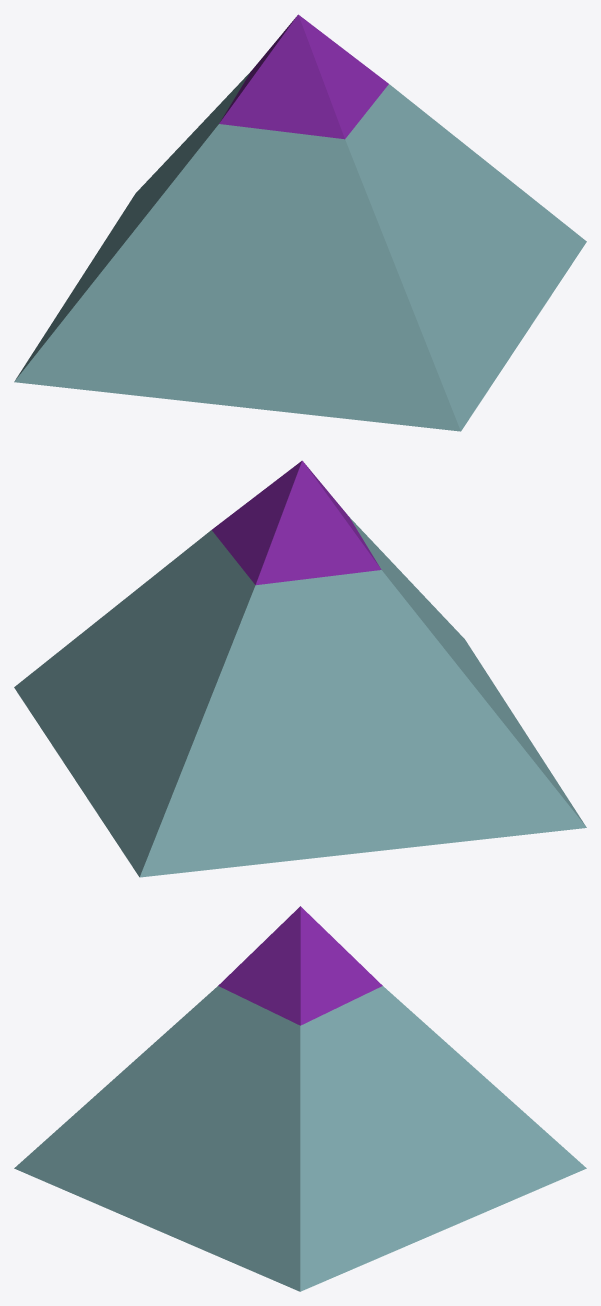
File: BB_top.fbx
The picture shows the model from 3 angles, top to bottom: view 1: azimuth 30°, elevation 25°; view 2: azimuth 150°, elevation 25°; view 3: azimuth 270°, elevation 25°; orthographic projection. The views are drawn at different scales.
Visible parts, largest first — view 1: BB_top; view 2: BB_top; view 3: BB_top.
Part boxes in pixels (x1,y1,x2,y2): BB_top: (14, 14, 586, 431); BB_top: (14, 460, 586, 877); BB_top: (14, 906, 586, 1291).
Bounding box in the file's own units: 969 × 482 × 954.
